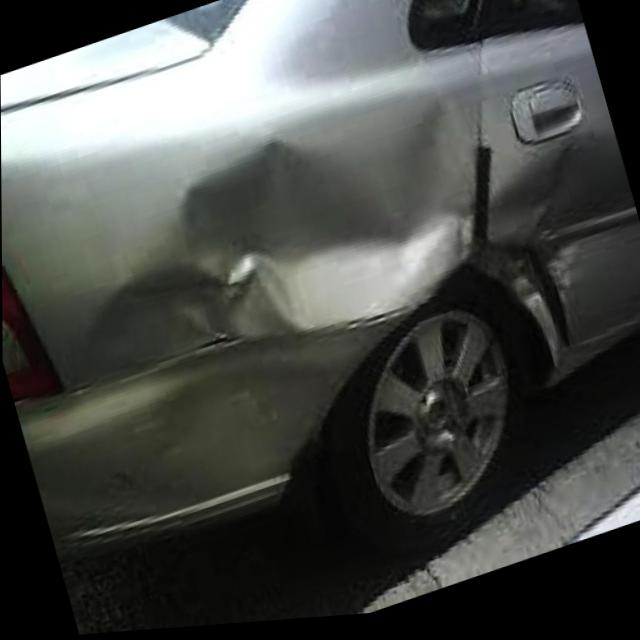Car-Damage: (39, 36, 640, 555)
